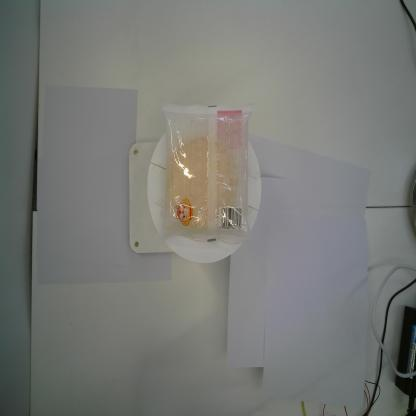Dessert: (159, 97, 255, 246)
